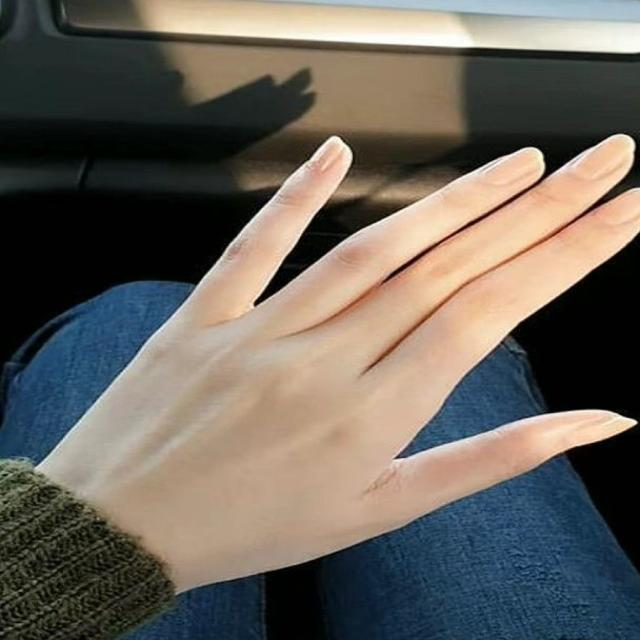no-gloves: (53, 129, 640, 584)
